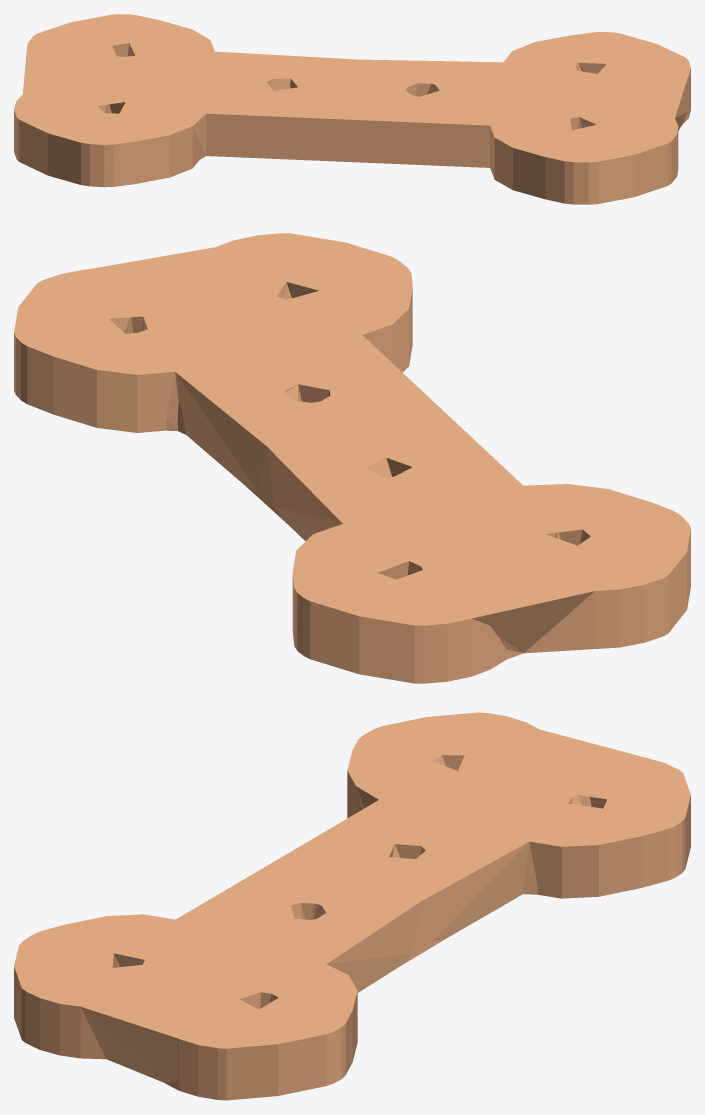
File: imp-pet-treats.glb
3 views of the same model, one above another, from view 1: azimuth 30°, elevation 25°; view 2: azimuth 150°, elevation 25°; view 3: azimuth 270°, elevation 25° (orthographic). The views are drawn at different scales.
Parts seen in each view (by area): view 1: Kerbside_metres_ground_pivot (×3); view 2: Kerbside_metres_ground_pivot (×3); view 3: Kerbside_metres_ground_pivot (×3).
Part boxes in pixels (x1=…): Kerbside_metres_ground_pivot (×3): x1=14, y1=14, x2=690, y2=204; Kerbside_metres_ground_pivot (×3): x1=14, y1=233, x2=690, y2=683; Kerbside_metres_ground_pivot (×3): x1=14, y1=712, x2=690, y2=1100.
Size of the model in its own units: 0.2 by 0.0144 by 0.1702.
